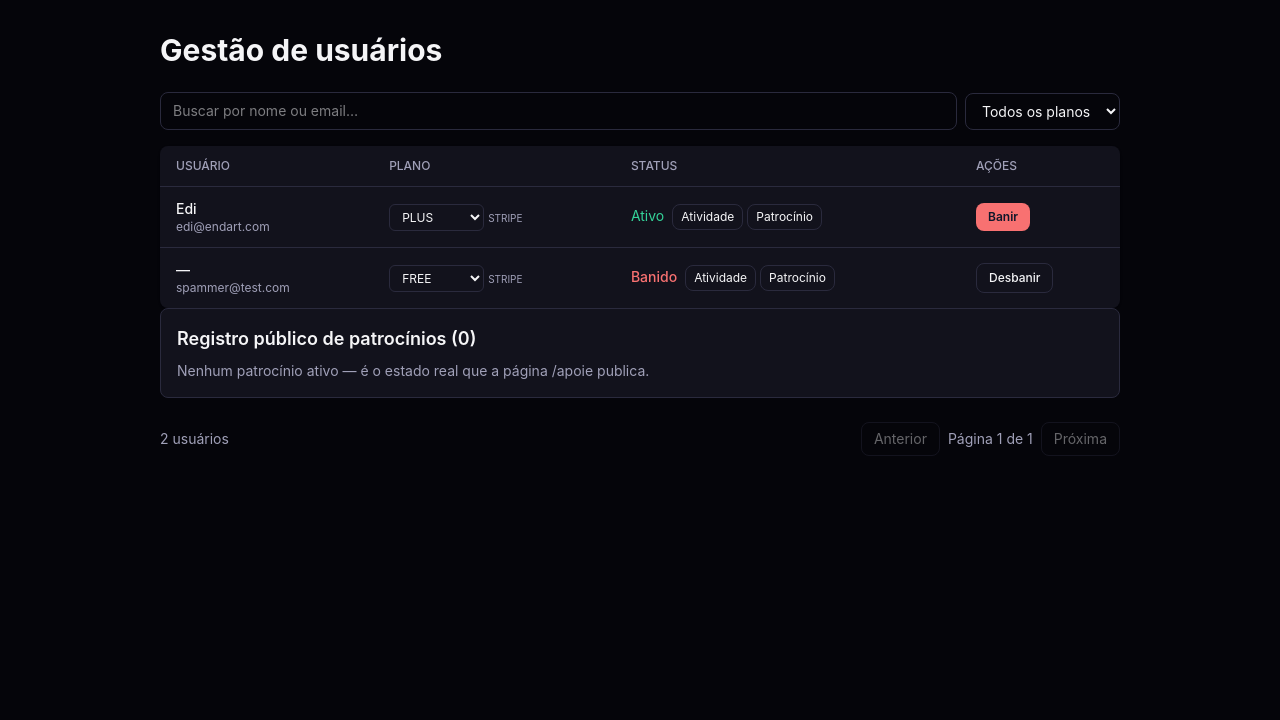
Scenario: AdminUsuariosPage (Onda 2 admin — P0b: atividade e moderação) › Atividade abre o painel com interações e watchlist do usuário
The width and height of the screenshot is (1280, 720).
Click the button "Atividade" in the row of "edi@endart.com" at (708, 217), box [672,204,743,230]
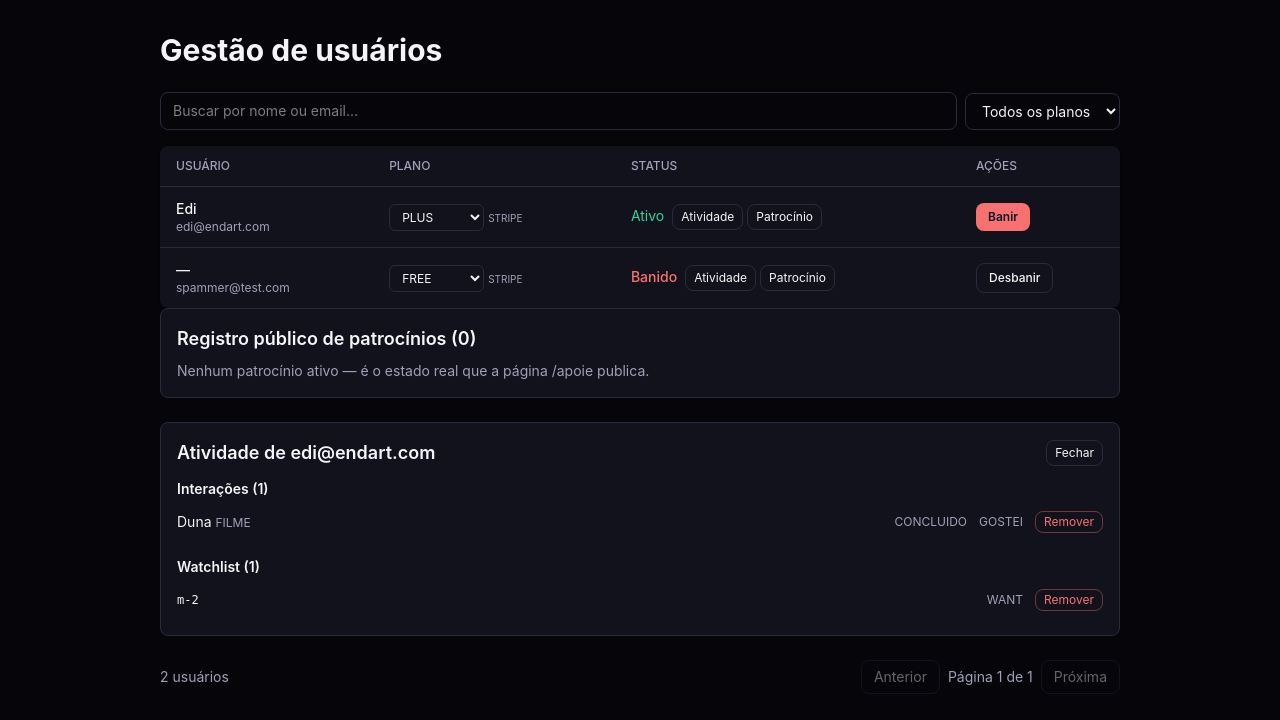
Now the element with test id "admin-atividade-painel" is shown, box [160,422,1120,636]
Now the text "Duna" is shown, box [177,513,212,530]
Now the button with test id "admin-atividade-remover-m-1" is shown, box [1035,511,1103,533]
